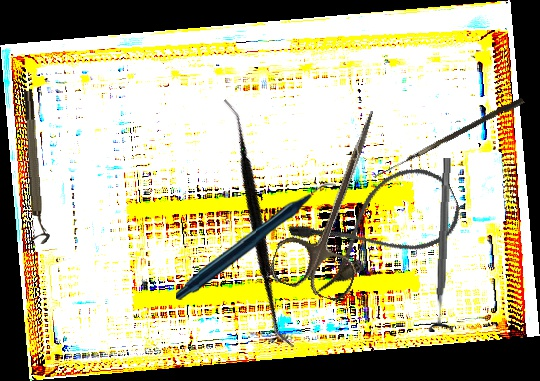Cannula: (285, 154, 470, 297)
Fixation Ring: (426, 157, 462, 333), (21, 90, 50, 245)
Handpiece: (174, 183, 338, 300)
Hook Surgical: (373, 94, 525, 185)
Iris Scissors: (266, 96, 408, 305)
Spatula Surgical: (134, 97, 384, 350)
